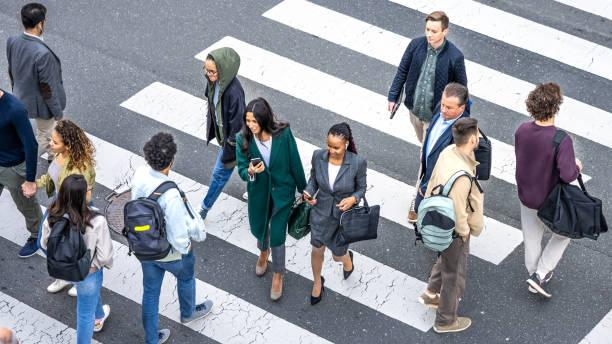coat: (203, 43, 249, 170)
jacket: (125, 163, 205, 263), (387, 36, 471, 120), (426, 145, 486, 242), (3, 31, 67, 119), (40, 207, 115, 271), (303, 147, 367, 220)
long sleeve shirt: (411, 40, 447, 121)
short sleeve shirt: (45, 159, 72, 196), (327, 161, 342, 190)
sweater: (513, 121, 581, 211), (0, 91, 40, 184)
trousers: (137, 250, 195, 344), (520, 198, 572, 283), (426, 230, 471, 326), (0, 157, 45, 243), (68, 265, 104, 344), (201, 142, 239, 215), (255, 199, 287, 274), (34, 107, 62, 162)
